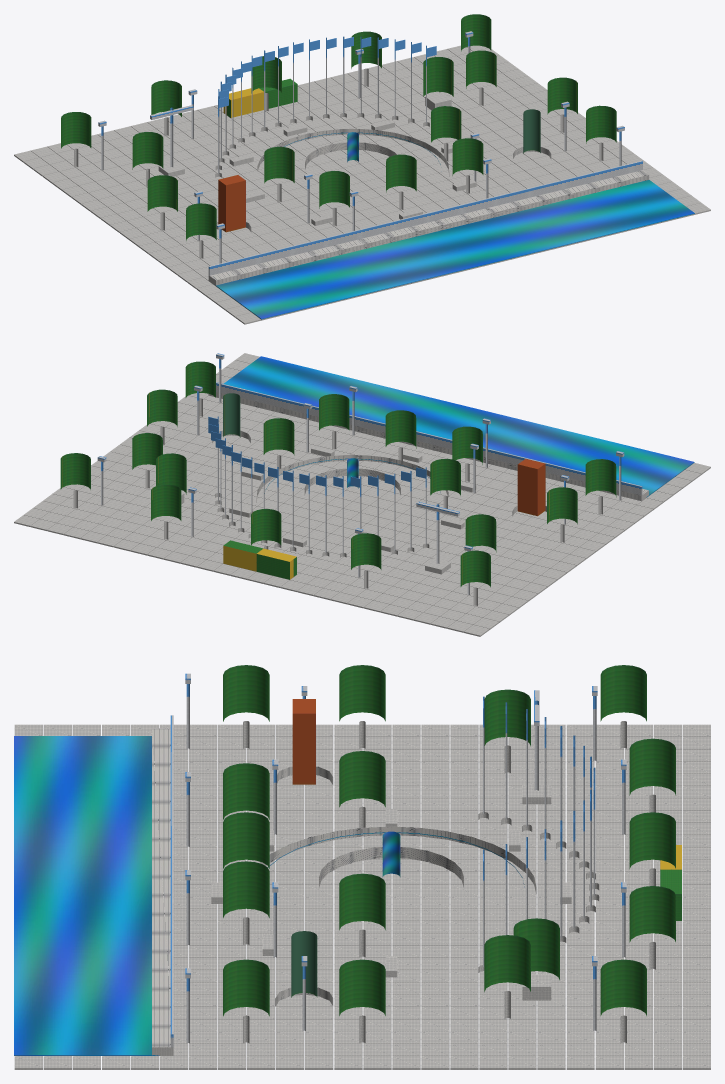
3 renders of one model, top to bottom at view 1: azimuth 30°, elevation 25°; view 2: azimuth 150°, elevation 25°; view 3: azimuth 270°, elevation 25°, orthographic. The views are drawn at different scales.
Parts seen in each view (by area): view 1: 28185_B17_CentralPark_UN_Plaza; view 2: 28185_B17_CentralPark_UN_Plaza; view 3: 28185_B17_CentralPark_UN_Plaza.
Boxes of the visible parts, x1,y1,x2,y2 form: 28185_B17_CentralPark_UN_Plaza: (14, 14, 710, 324); 28185_B17_CentralPark_UN_Plaza: (14, 353, 710, 636); 28185_B17_CentralPark_UN_Plaza: (14, 665, 710, 1069).
Size of the model in its own units: 55.95 by 9.5 by 48.
Materials: 1 (1 with a texture image).
